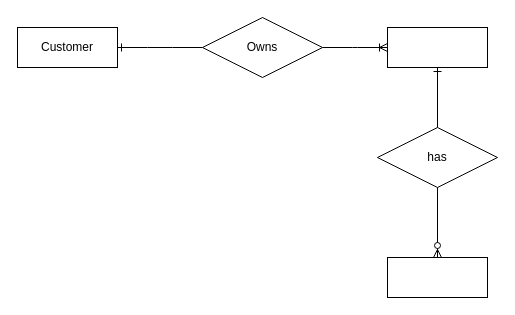
Image size: 515x315. Some labels were removed from this diagram. The shapes that lost their labels are listed below. From the top down, each one's centre as x and y in pixels, then its label:
the point at 437,47: Autos
the point at 437,277: Accident Record
